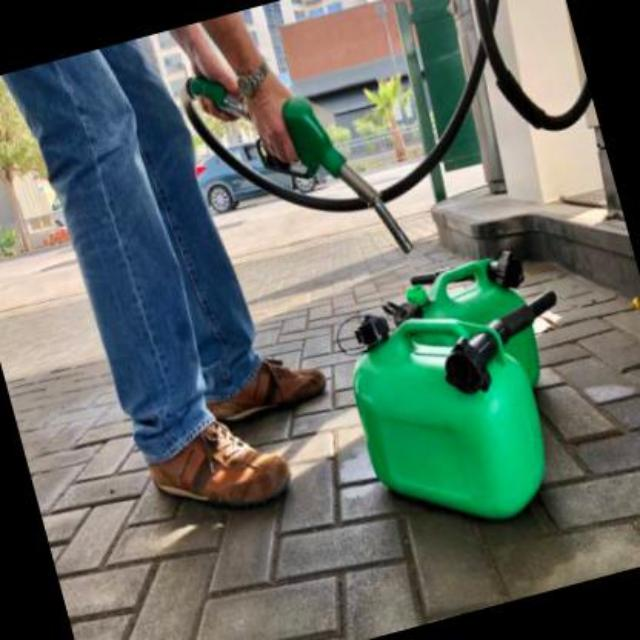chemical_plastic_gallon: (329, 286, 565, 546)
